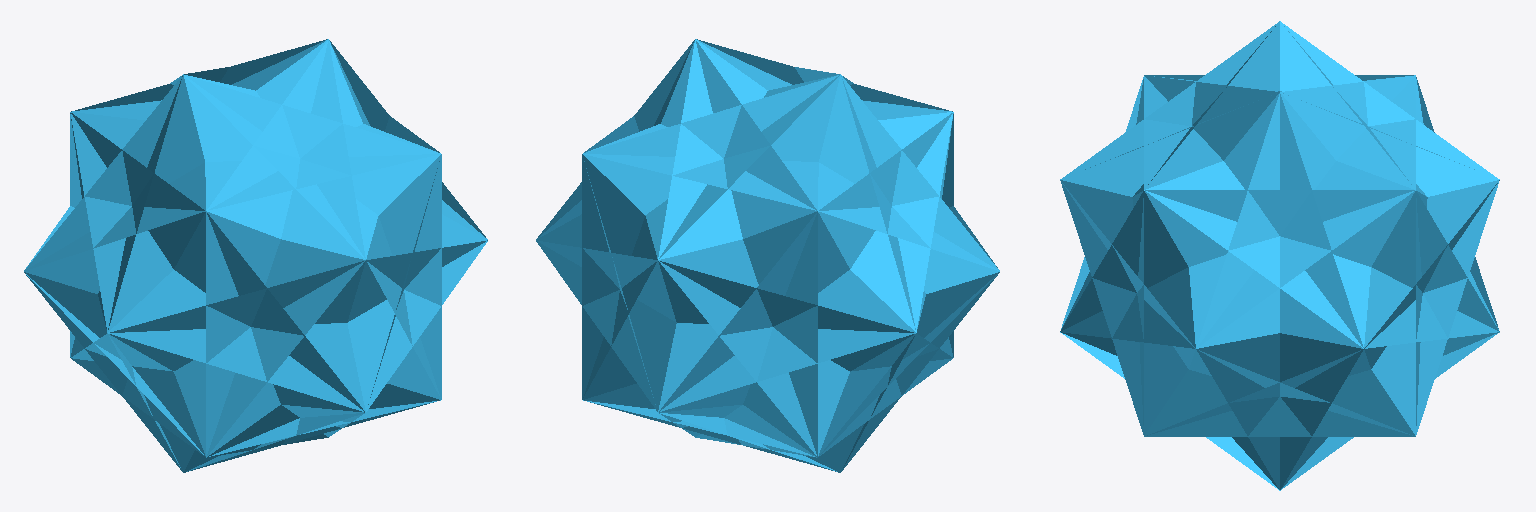
Rendered from Rhombicosacron.obj.
3 renders of one model, left to right at view 1: azimuth 30°, elevation 25°; view 2: azimuth 150°, elevation 25°; view 3: azimuth 270°, elevation 25°, orthographic.
Size of the model in its own units: 3.24 by 3.24 by 3.24.